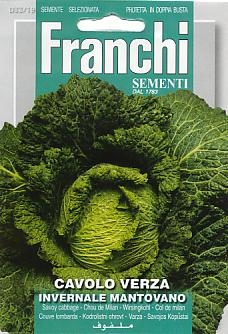cabbage: (54, 166, 162, 275)
